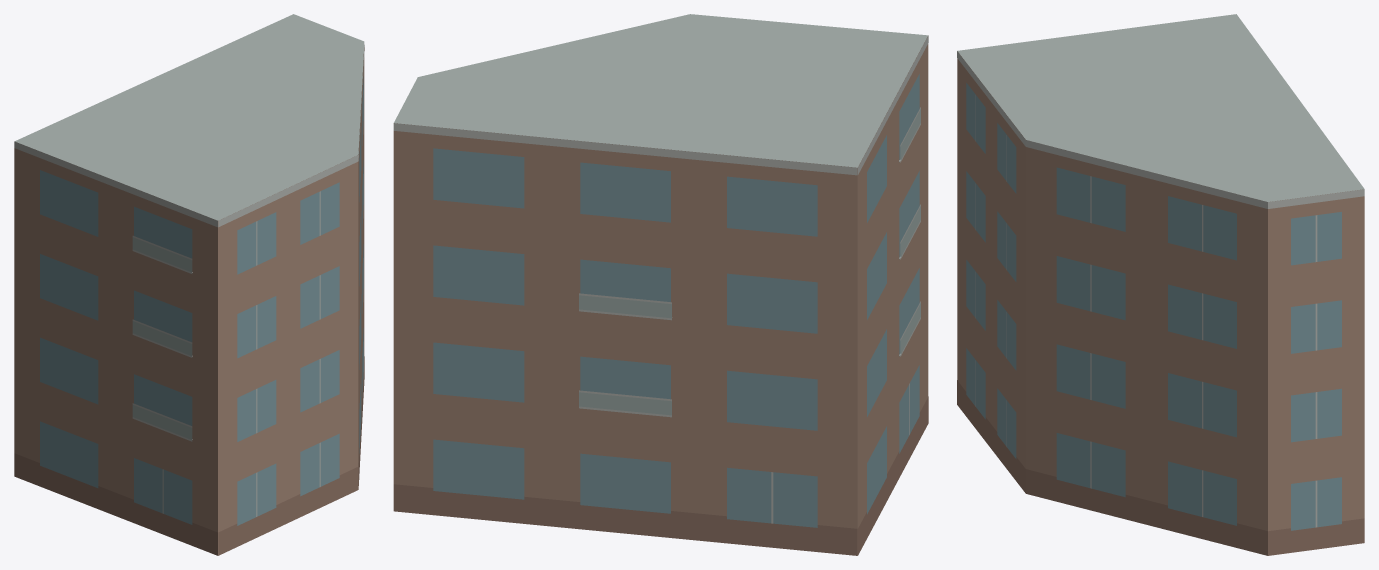
The model's file is survey-upis-32780651.glb.
3 renders of one model, left to right at view 1: azimuth 30°, elevation 25°; view 2: azimuth 150°, elevation 25°; view 3: azimuth 270°, elevation 25°, orthographic. The views are drawn at different scales.
Visible parts, largest first — view 1: survey-upis-32780651.tmp; view 2: survey-upis-32780651.tmp; view 3: survey-upis-32780651.tmp.
Boxes of the visible parts, box(x1,y1,x2,y2) form: survey-upis-32780651.tmp: box(14, 14, 364, 555); survey-upis-32780651.tmp: box(393, 14, 928, 555); survey-upis-32780651.tmp: box(957, 14, 1364, 555).
Bounding box in the file's own units: 13.91 × 12.2 × 12.75.
